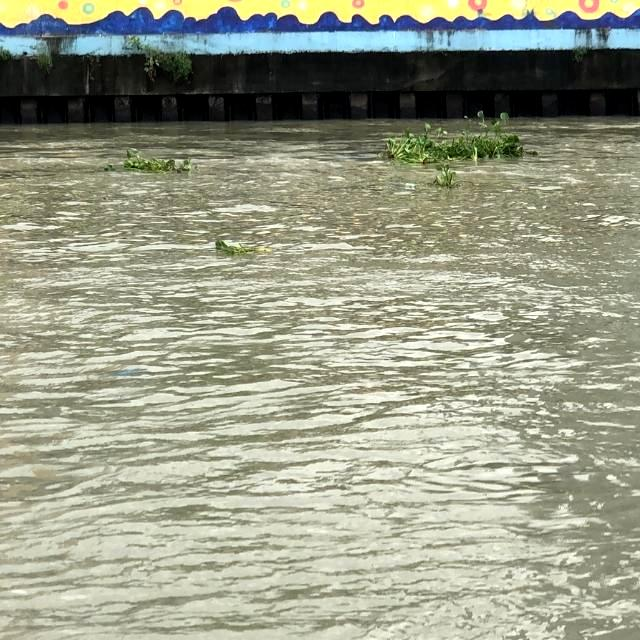water-hyacinth: (380, 112, 535, 166), (100, 144, 193, 174), (210, 237, 269, 257), (430, 165, 459, 188)
